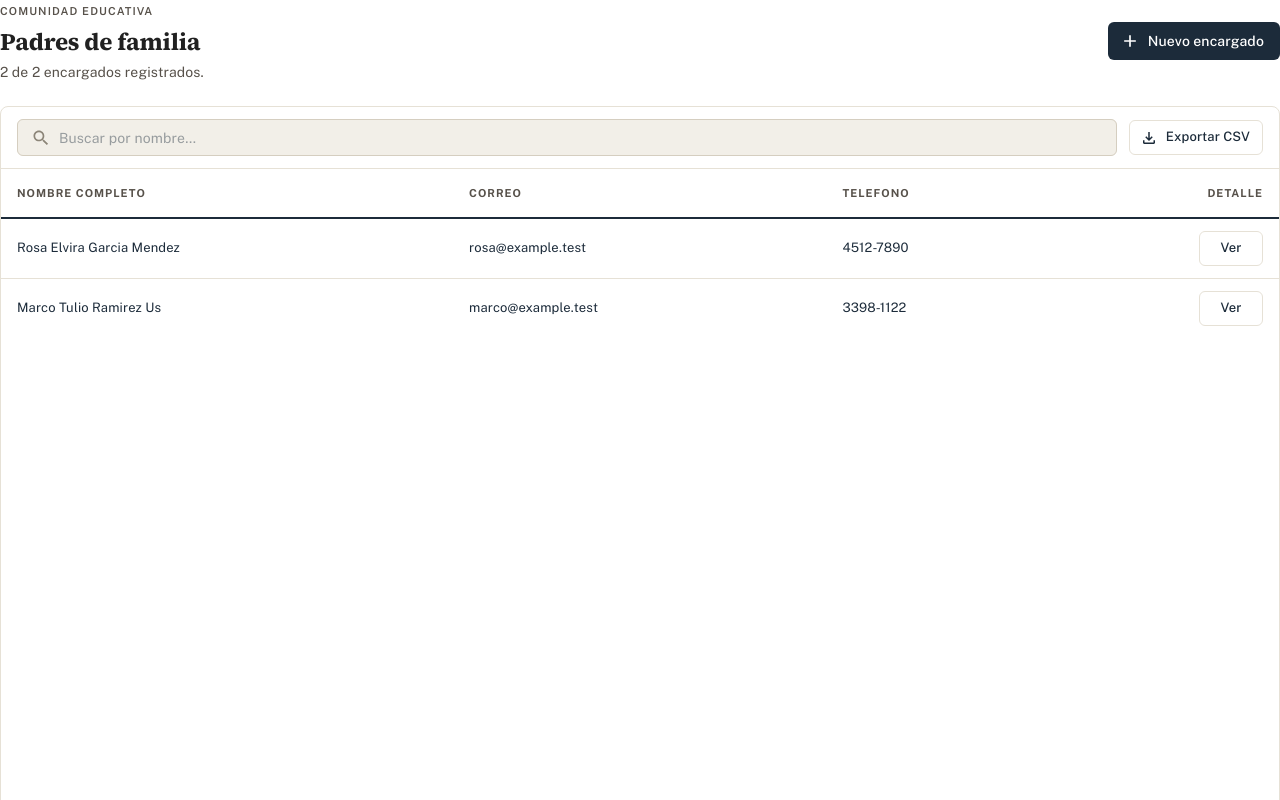
Test: GuardiansPage › edits a guardian via the detail panel
Expected: the text "Rosa Elvira Garcia Mendez" is shown, [1, 219, 453, 279]
Step 1. Click the button with aria-label "Ver detalle" → (1231, 249), box [1199, 231, 1263, 266]
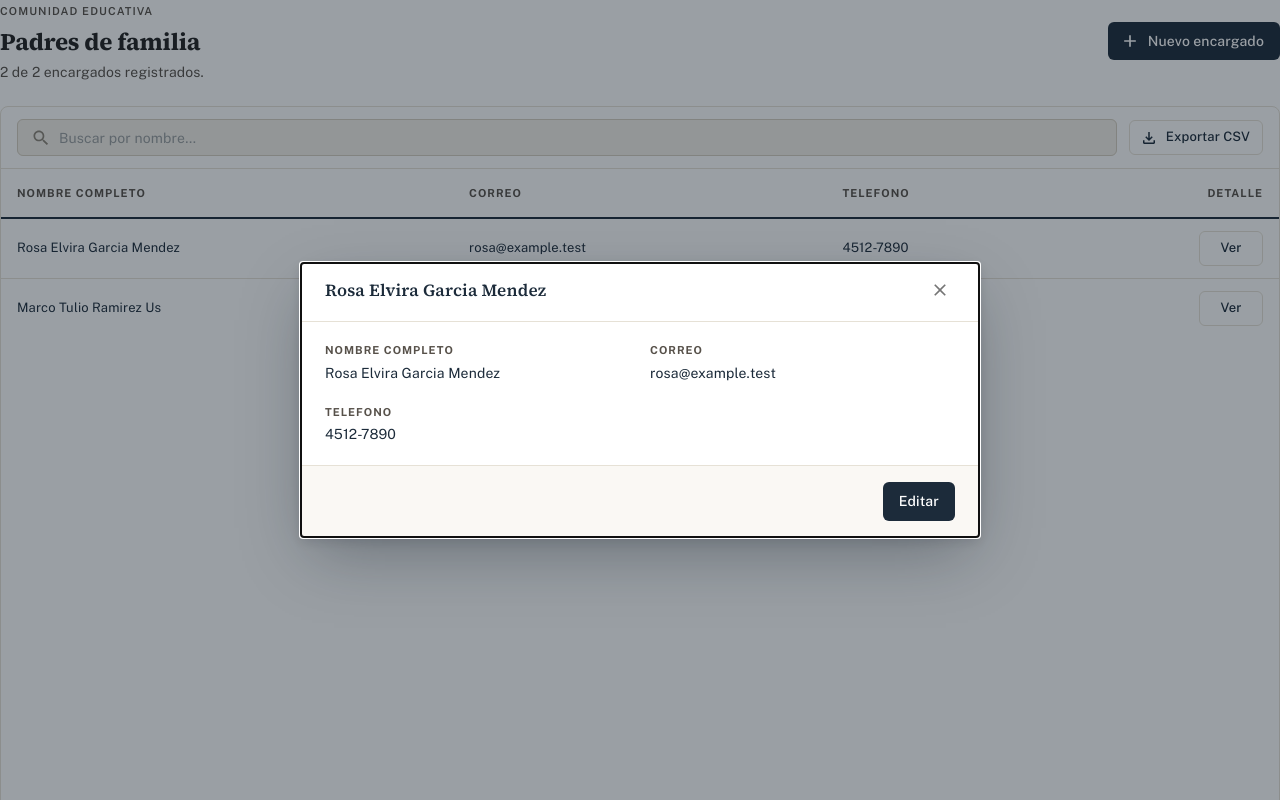
Step 2. Click the button "Editar" → (919, 502), box [883, 482, 955, 521]
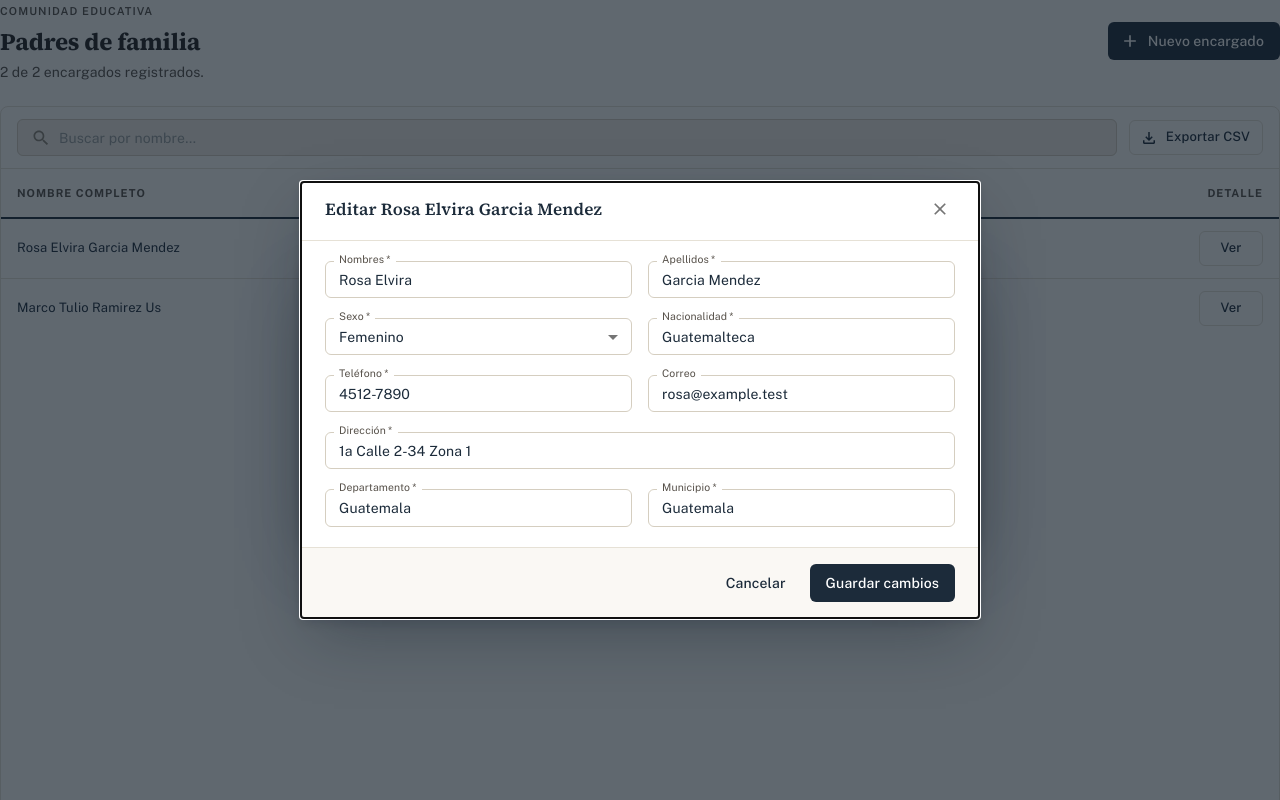
Expected: the field labelled "Apellidos *" holds "Garcia Mendez"
Step 3. Replace the text in the field labelled "Apellidos *" with "Garcia Lopez" → (802, 279), box [648, 261, 955, 298]
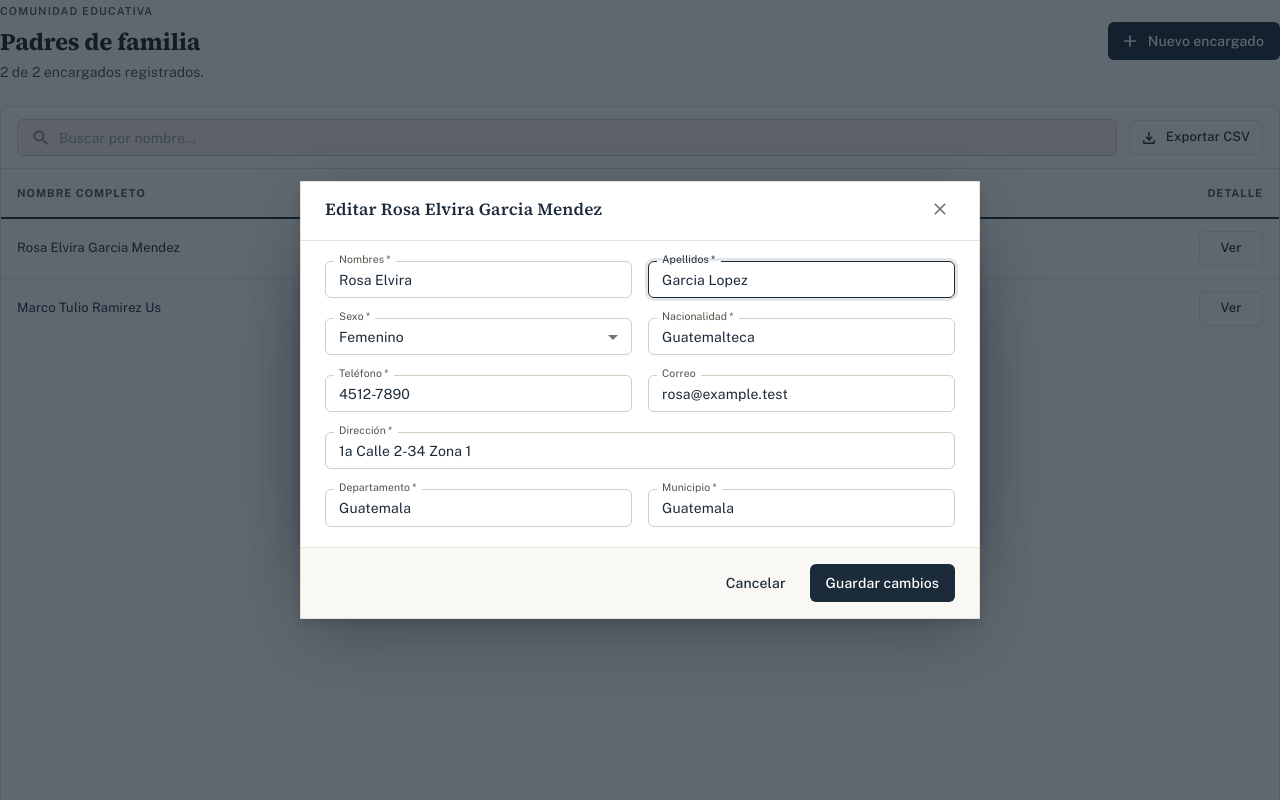
Step 4. Click the button "Guardar cambios" → (882, 583), box [810, 564, 955, 602]
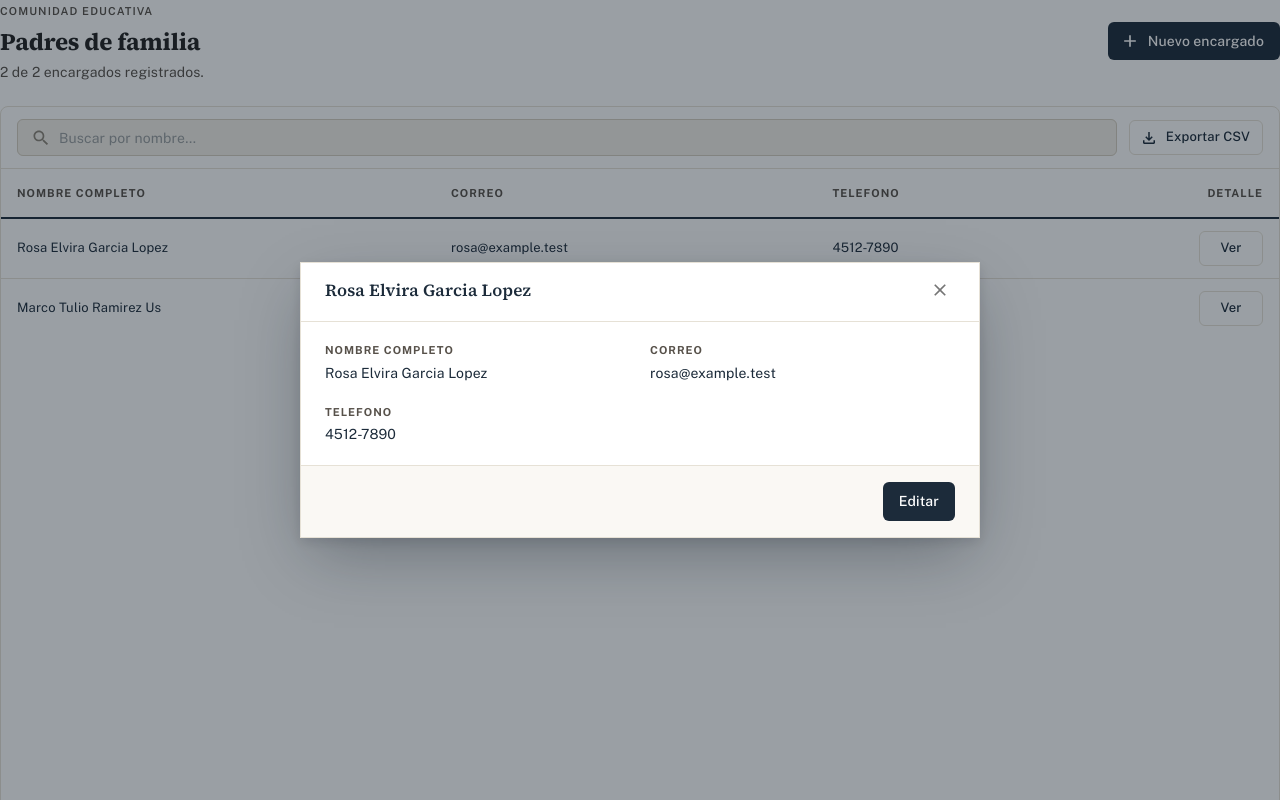
Expected: the heading "Rosa Elvira Garcia Lopez" is shown, [325, 279, 531, 302]
